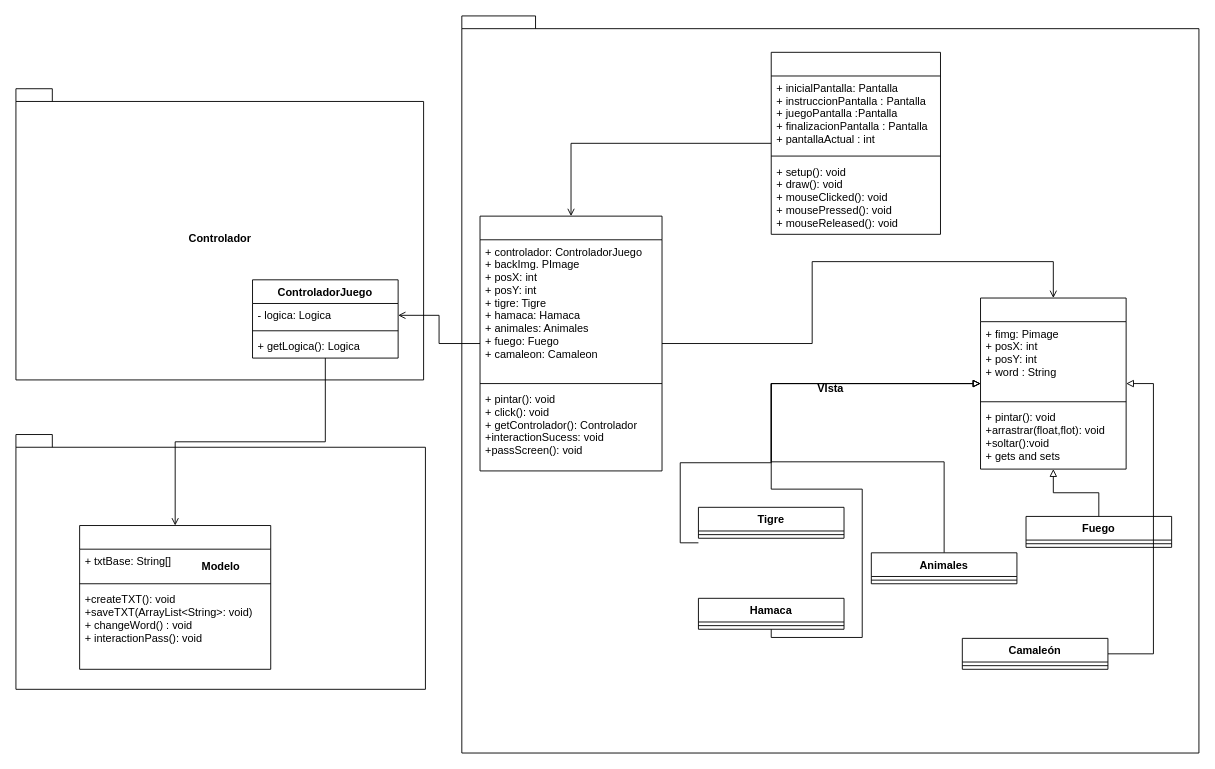
Some shapes in this 1215 by 769 pixel diagram are drawn without their labels. Here are the shapes that lost their labels. From the top down, the box of each, then its label:
(770, 51, 940, 234): Main
(479, 215, 662, 471): Pantalla
(980, 297, 1126, 469): Elementos
(79, 525, 271, 669): Logica
